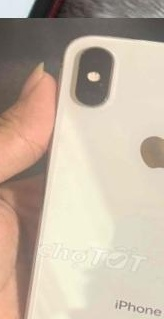scratch: (101, 94, 119, 110), (71, 47, 95, 59), (70, 62, 84, 74)
